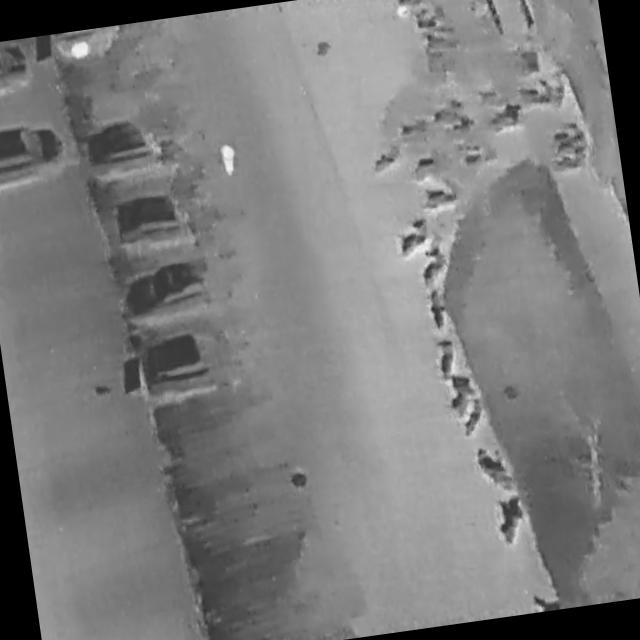person: (217, 140, 240, 180)
